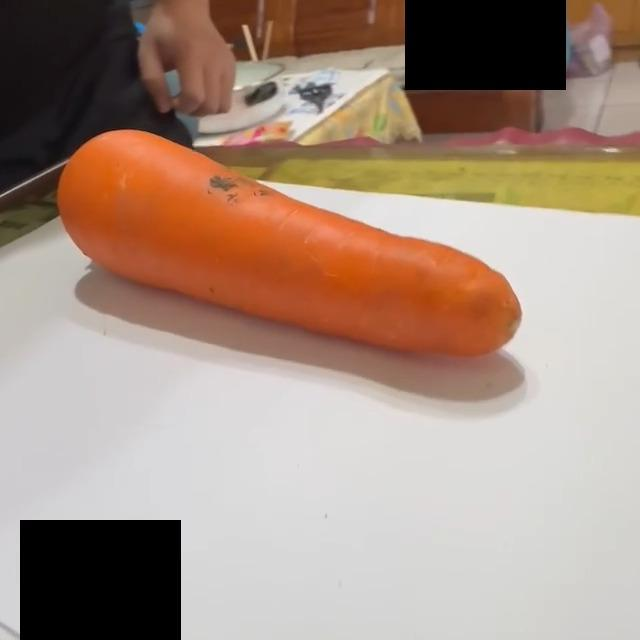carrot: (59, 131, 526, 360)
